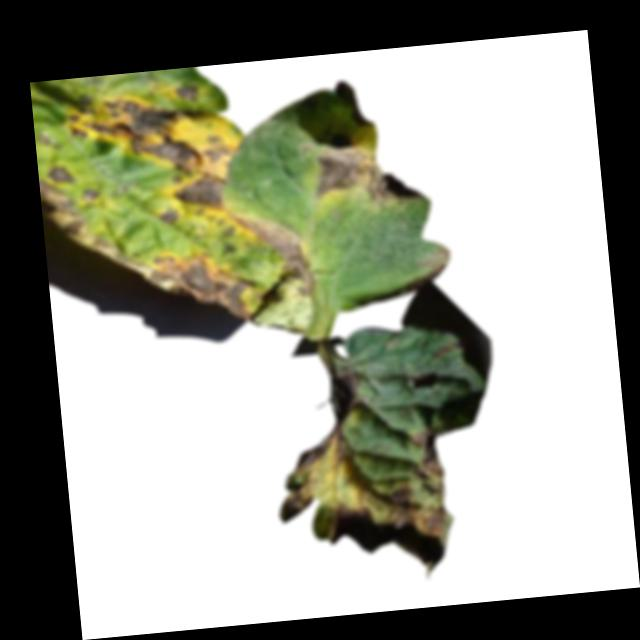Early_blight: (33, 88, 259, 351), (263, 356, 457, 590), (309, 133, 425, 205), (234, 208, 316, 290), (417, 246, 452, 281), (173, 80, 198, 104), (430, 339, 459, 357)
